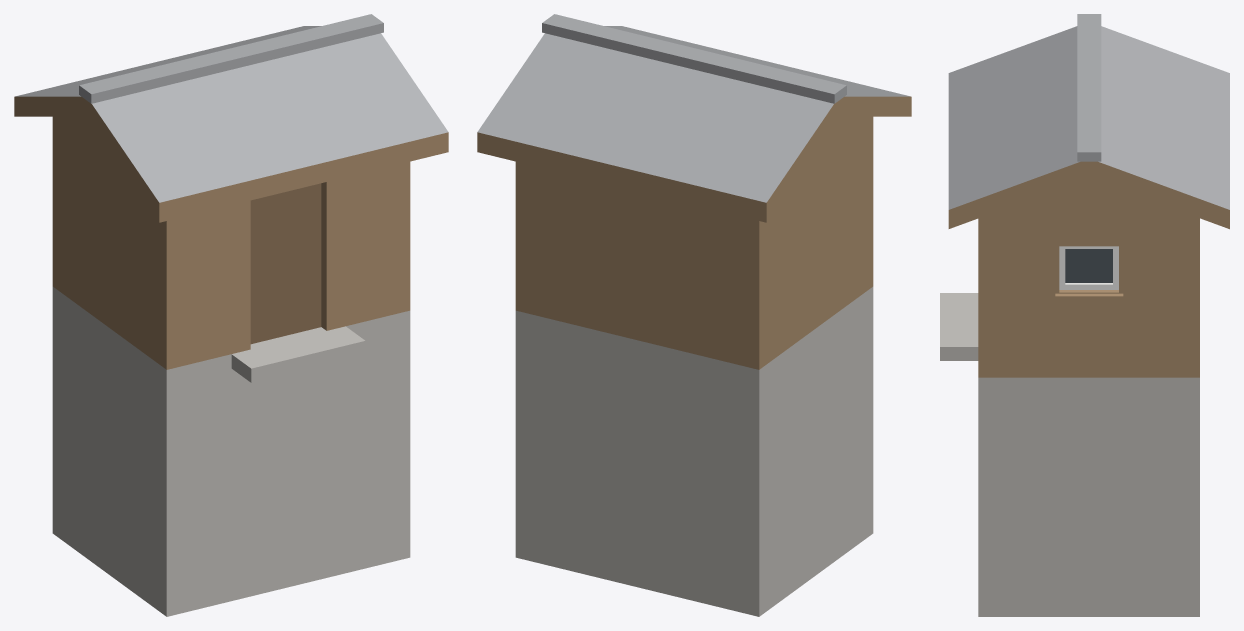
The model's file is shed_s.glb.
3 views of the same model, side by side, from view 1: azimuth 30°, elevation 25°; view 2: azimuth 150°, elevation 25°; view 3: azimuth 270°, elevation 25° (orthographic). The views are drawn at different scales.
Visible parts, largest first — view 1: shed_s; view 2: shed_s; view 3: shed_s.
Part boxes in pixels (x1,y1,x2,y2): shed_s: (14,14,448,616); shed_s: (477,14,911,616); shed_s: (940,14,1229,616).
Size of the model in its own units: 3.84 by 6.17 by 3.4.
